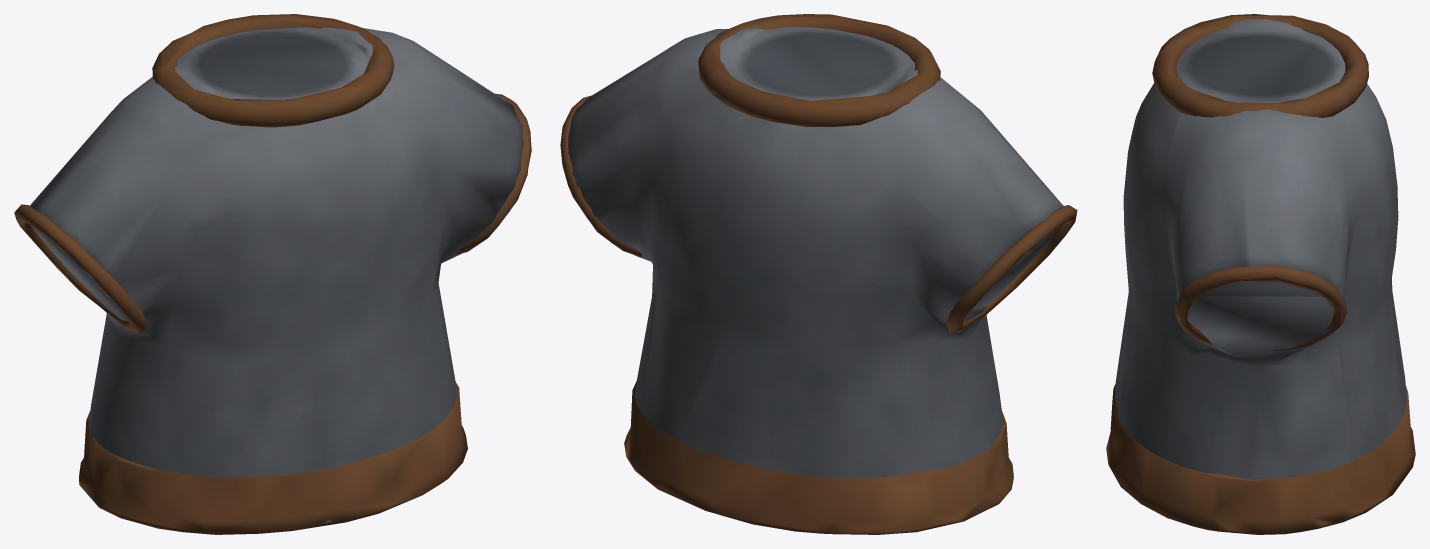
The model's file is chainmail.glb.
The picture shows the model from 3 angles, left to right: view 1: azimuth 30°, elevation 25°; view 2: azimuth 150°, elevation 25°; view 3: azimuth 270°, elevation 25°; orthographic projection. The views are drawn at different scales.
Parts seen in each view (by area): view 1: mail; view 2: mail; view 3: mail.
Part boxes in pixels (bbox=[...]): mail: bbox=[14, 14, 531, 534]; mail: bbox=[560, 14, 1077, 534]; mail: bbox=[1106, 14, 1415, 534].
Size of the model in its own units: 0.7942 by 0.6401 by 0.456.
1 material, 1 textured.
